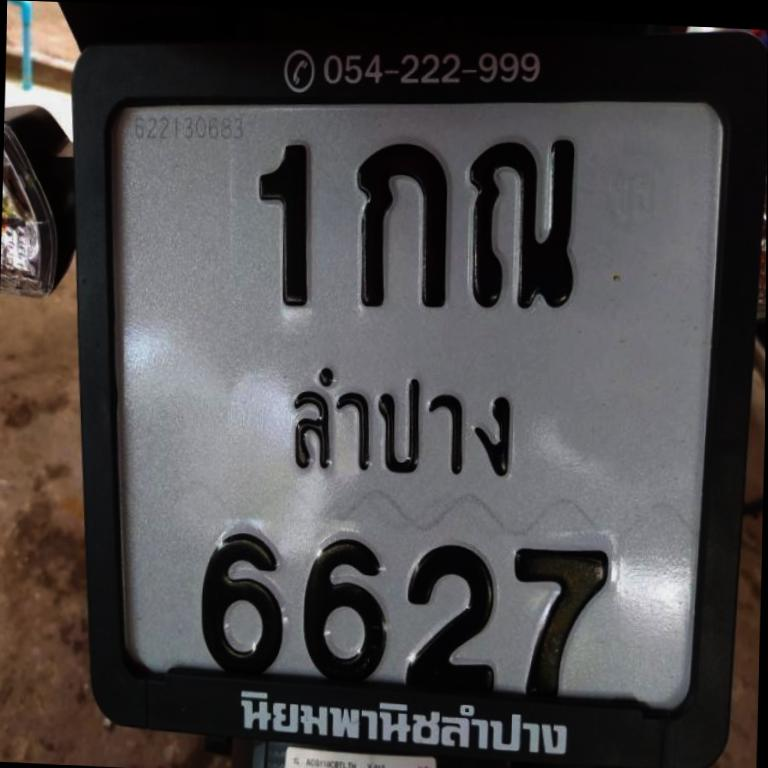license plate: (73, 35, 768, 768)
